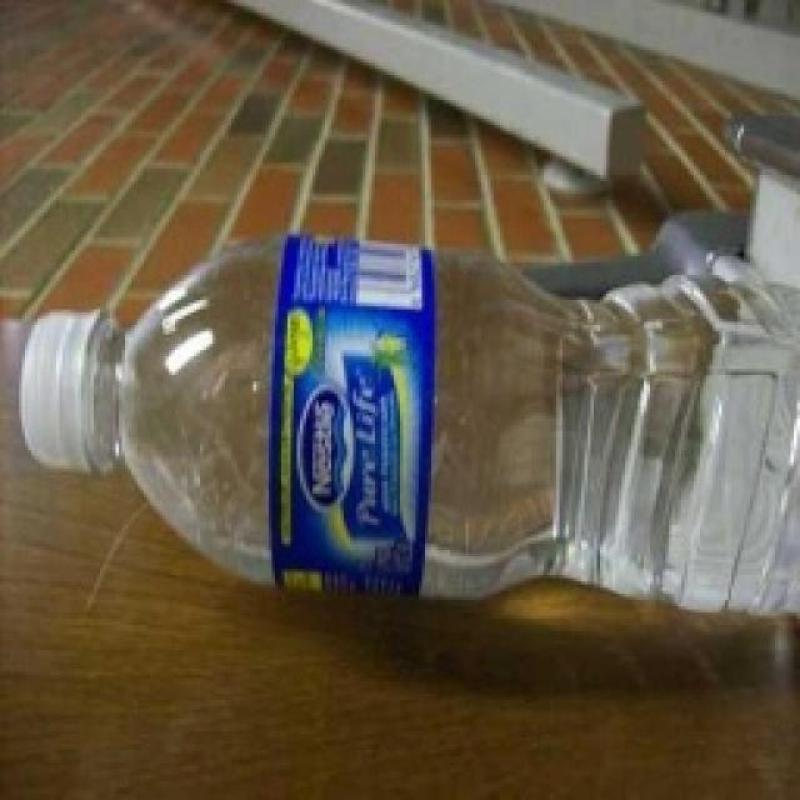botella: (15, 233, 800, 624)
